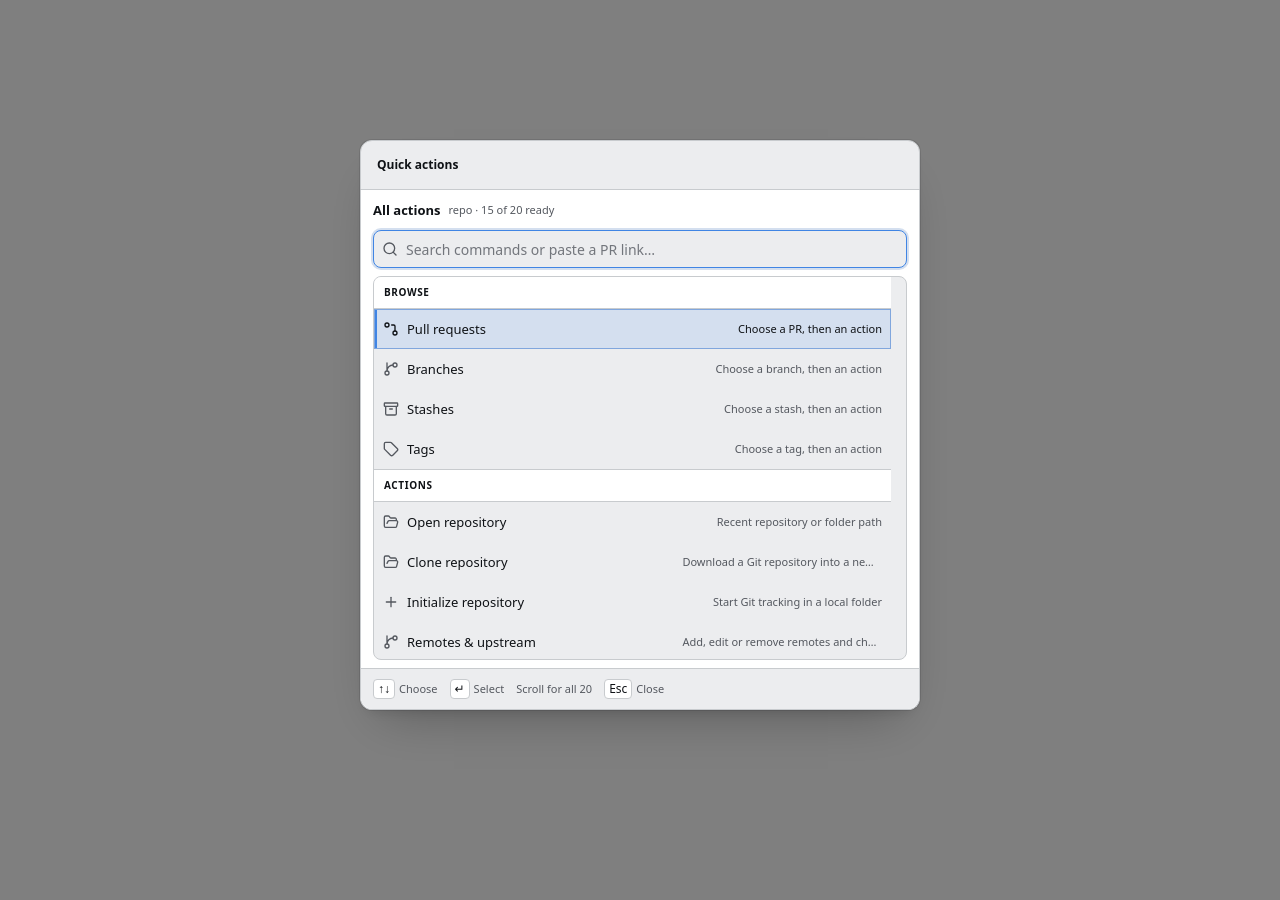
Scenario: AppCommandPalette › disables staged stash when staged and unstaged edits share a file
In the field named "Search actions": (652, 249) [406, 231, 898, 267], type "stash staged"
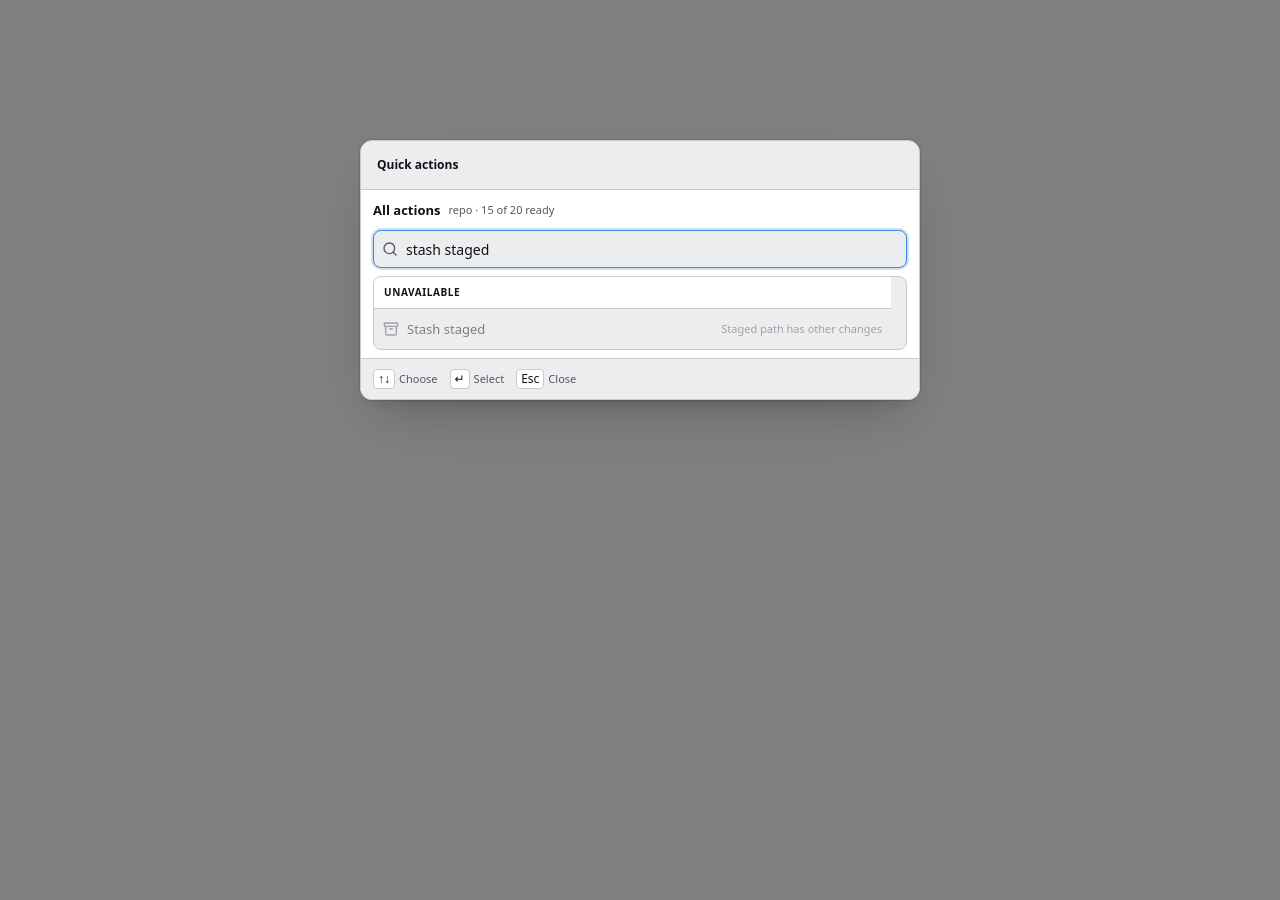
Check: the button "Stash staged Staged path has other changes" is disabled, box [374, 309, 891, 349]
Check: the button "Stash staged Staged path has other changes" is shown, box [374, 309, 891, 349]
